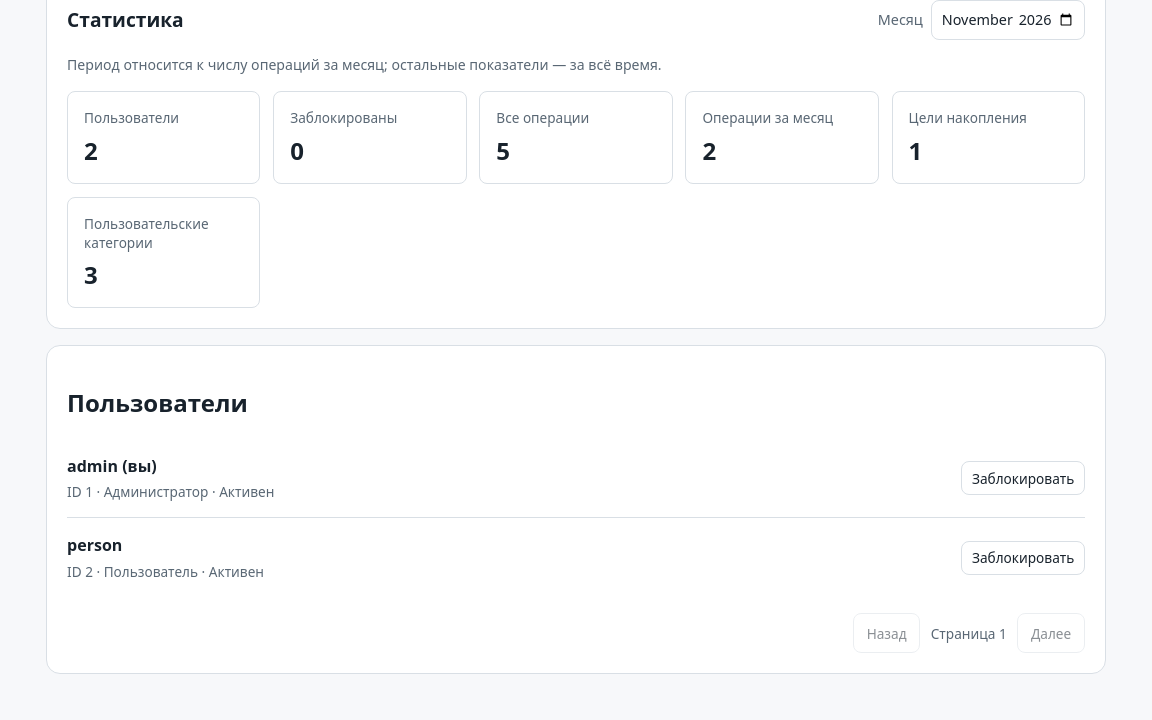
it: administration › shows aggregate statistics and blocks/unblocks users after confirmation
(page scrolled)
Expected: the text "person" is shown, [67,534,122,556]
Expected: the button with aria-label "Заблокировать пользователя admin" is disabled, [961,461,1085,495]
Click the button with aria-label "Заблокировать пользователя person" at [1023, 558], box [961,541,1085,575]
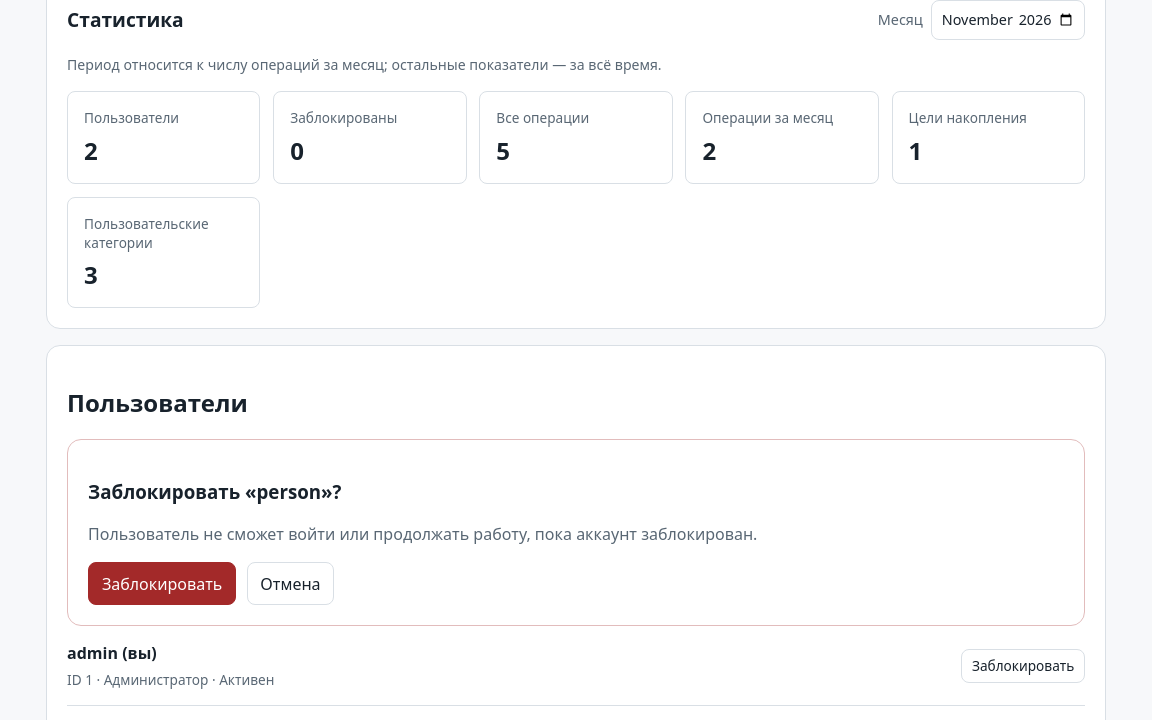
Expected: the dialog shows "не сможет войти", [88,523,757,545]
Click the button "Отмена" at [290, 584], box [246,562,334,606]
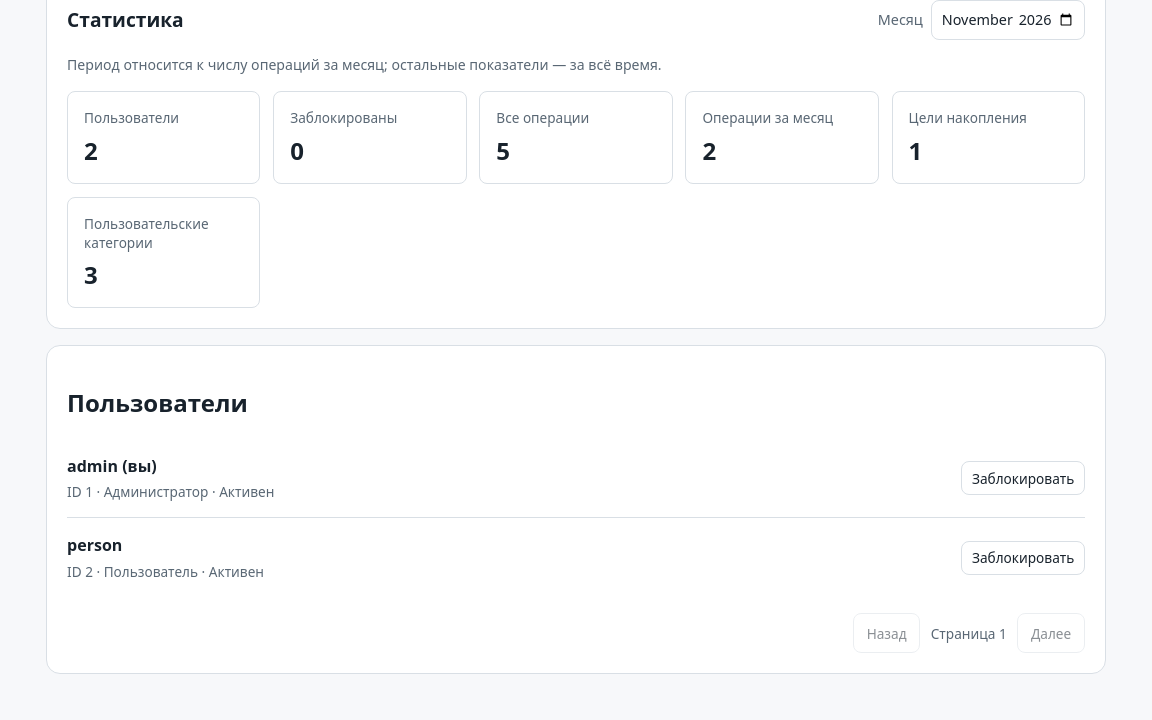
Click the button with aria-label "Заблокировать пользователя person" at [1023, 558], box [961,541,1085,575]
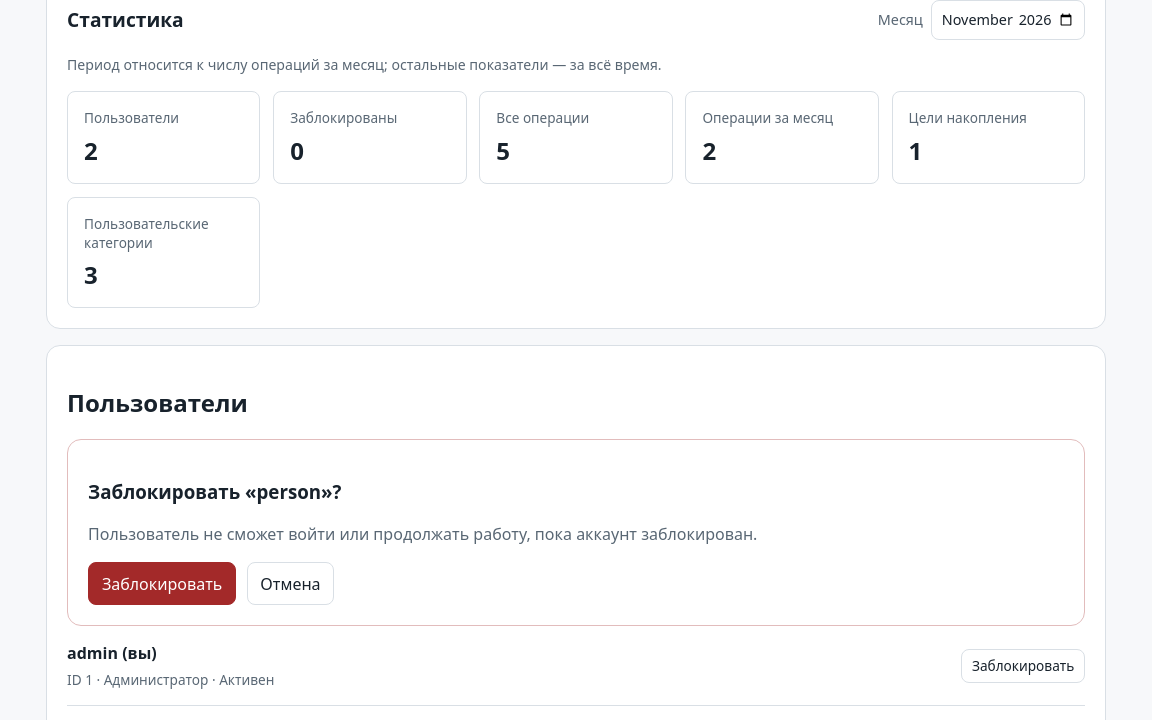
Click the 1st button "Заблокировать" at [162, 584], box [88,562,236,606]
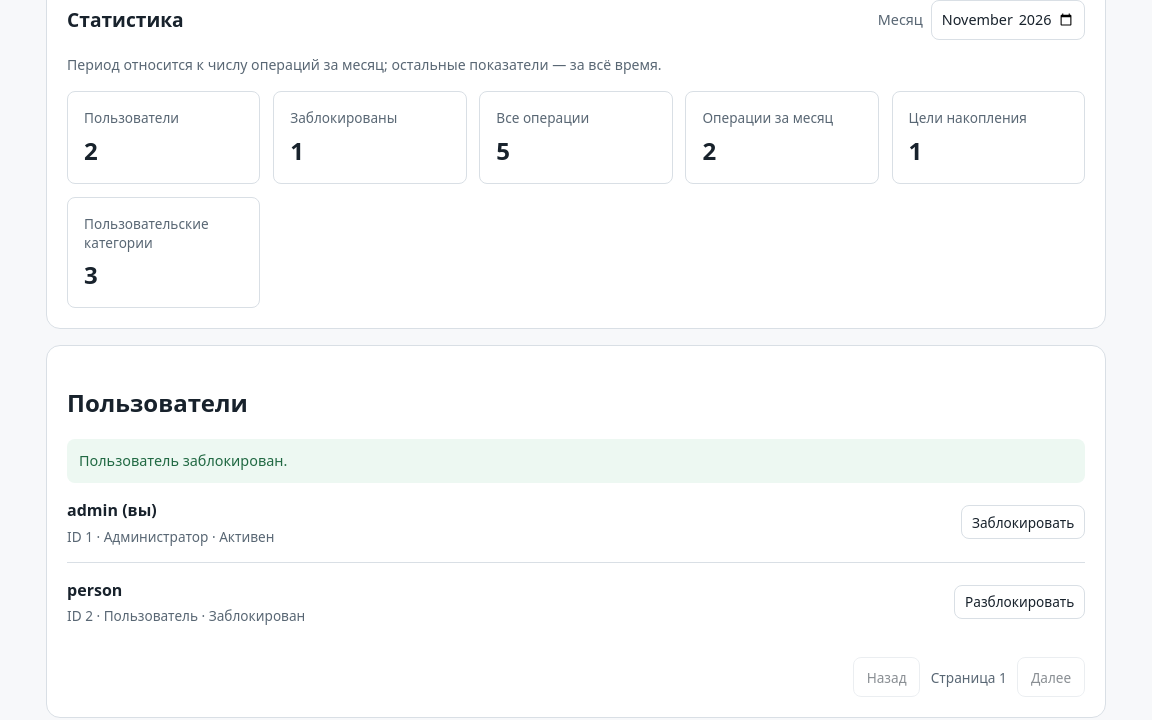
Expected: the text "Пользователь заблокирован." is shown, [67,439,1085,483]
Click the button with aria-label "Разблокировать пользователя person" at [1020, 602], box [954,585,1085,619]
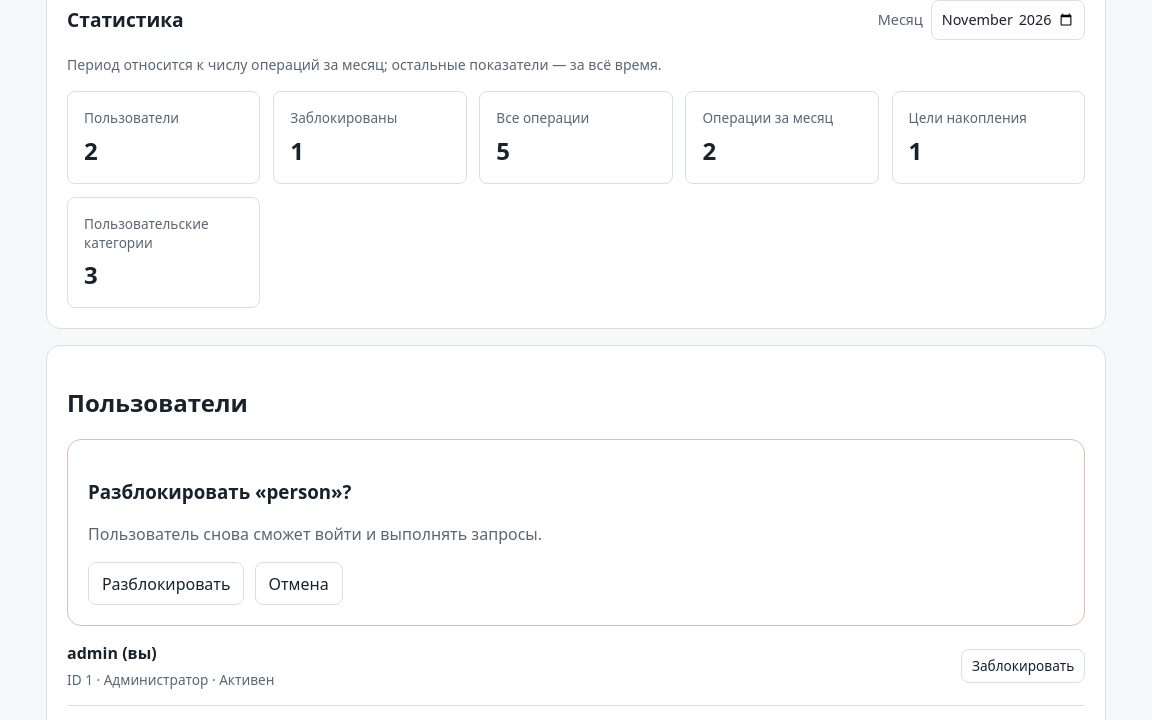
Click the button "Разблокировать" at [166, 584], box [88,562,244,606]
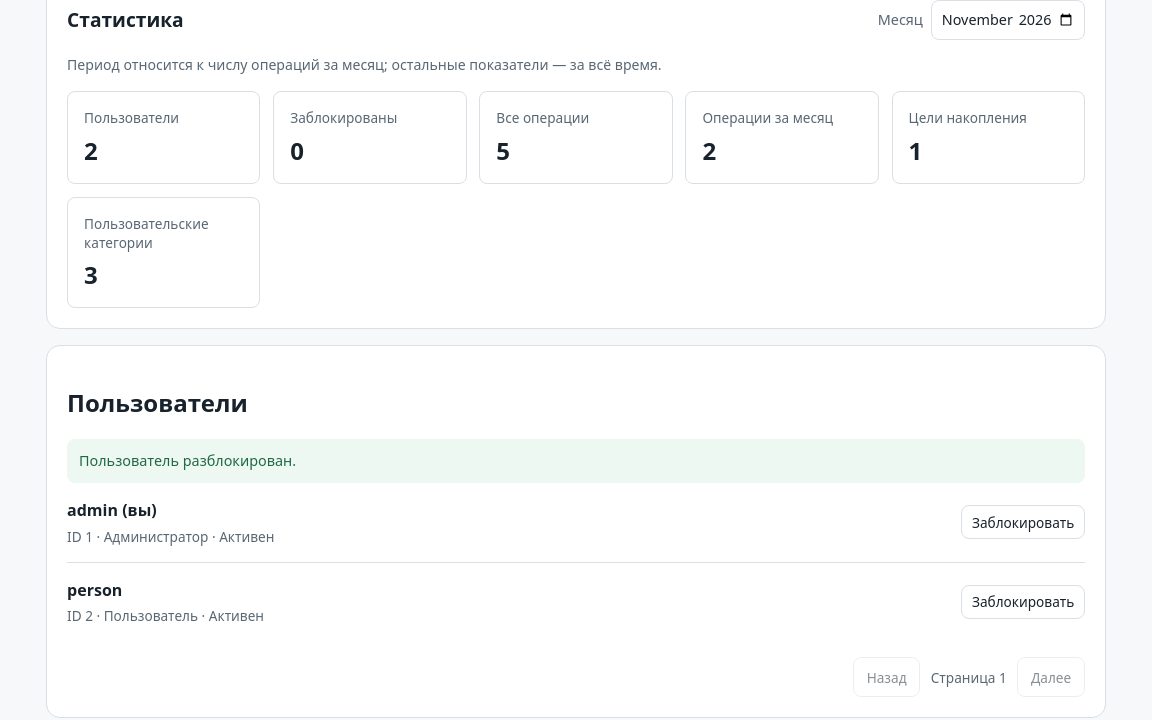
Expected: the text "Пользователь разблокирован." is shown, [67,439,1085,483]
Expected: the text "0" is shown, [290,134,304,167]
